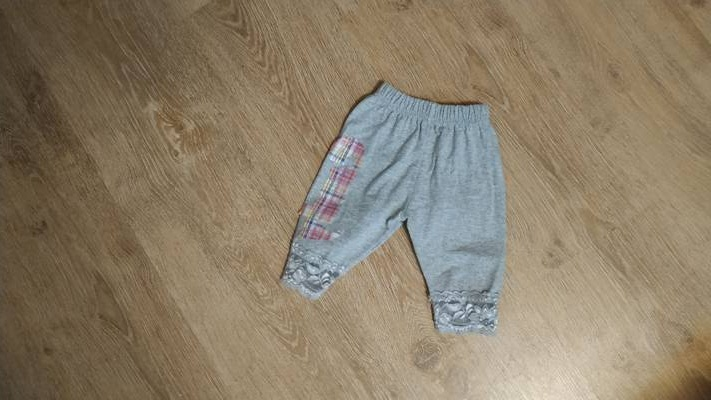Pants: (271, 85, 516, 348)
